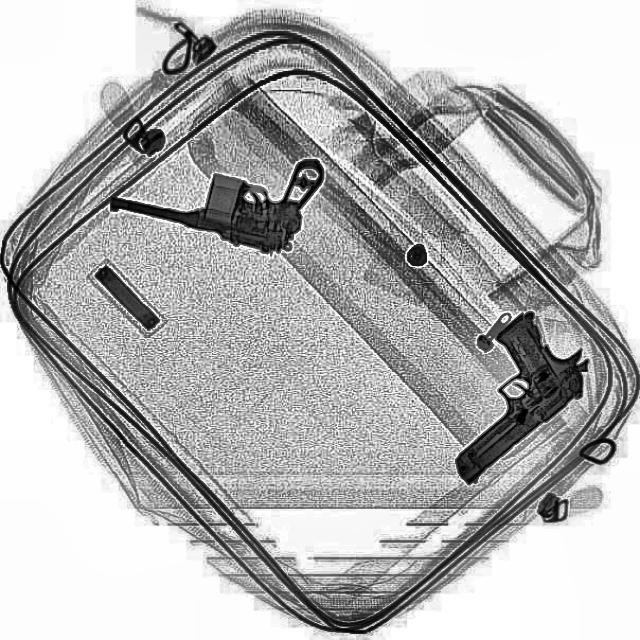Gun: (399, 302, 605, 488), (105, 114, 327, 258)
